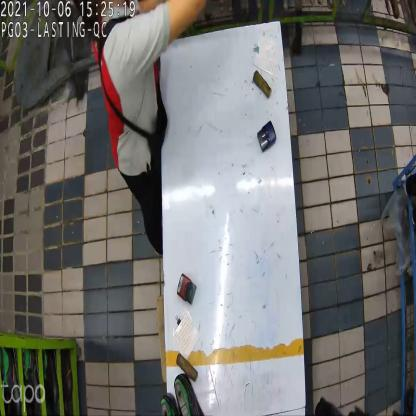stamp: (175, 274, 199, 312), (255, 120, 276, 156)
